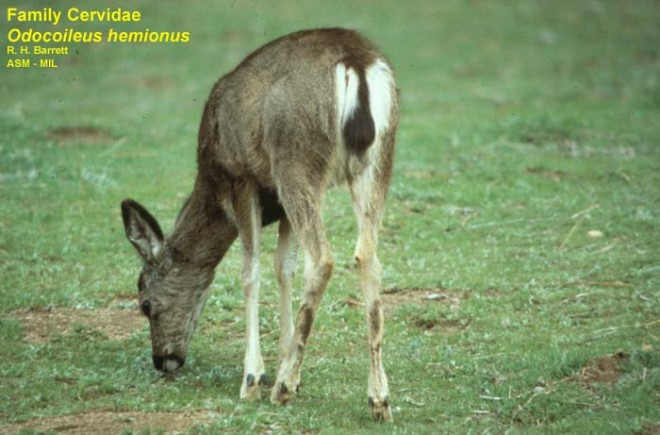Blackbuck: (119, 18, 416, 435)
